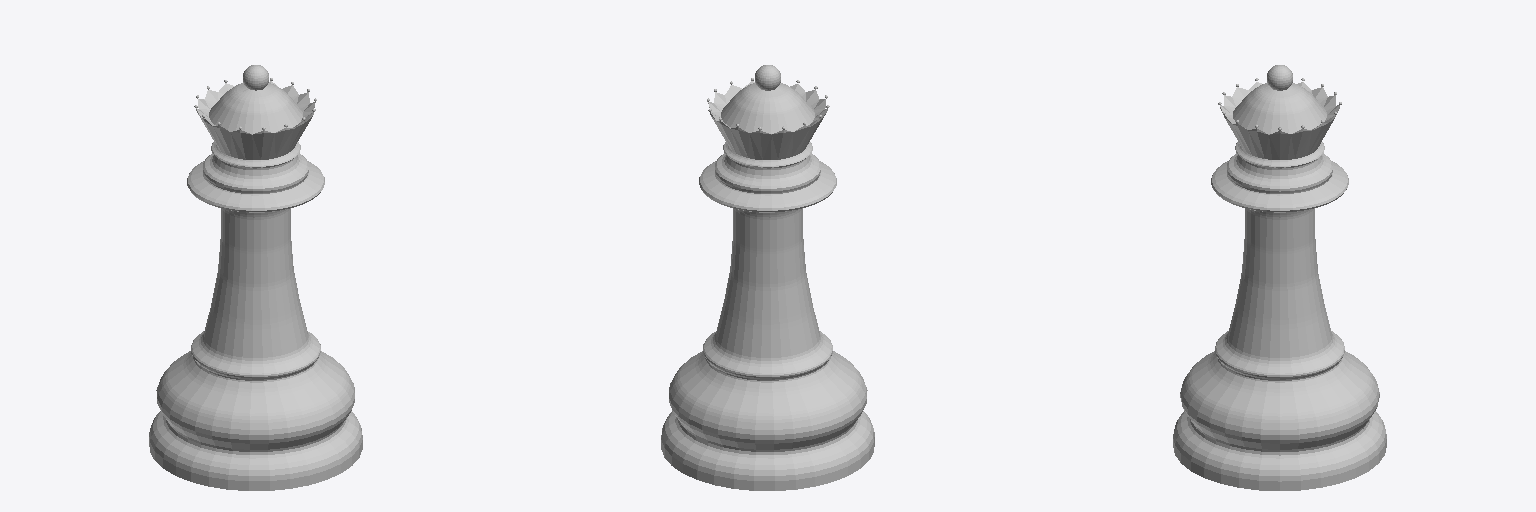
Rendered from queen.obj.
3 renders of one model, left to right at view 1: azimuth 30°, elevation 25°; view 2: azimuth 150°, elevation 25°; view 3: azimuth 270°, elevation 25°, orthographic.
Parts seen in each view (by area): view 1: Light_Queen; view 2: Light_Queen; view 3: Light_Queen.
Boxes of the visible parts, <box> form: Light_Queen: <box>149,65,362,490</box>; Light_Queen: <box>661,65,874,490</box>; Light_Queen: <box>1173,65,1386,490</box>.
Bounding box in the file's own units: 1.36 × 2.66 × 1.36.